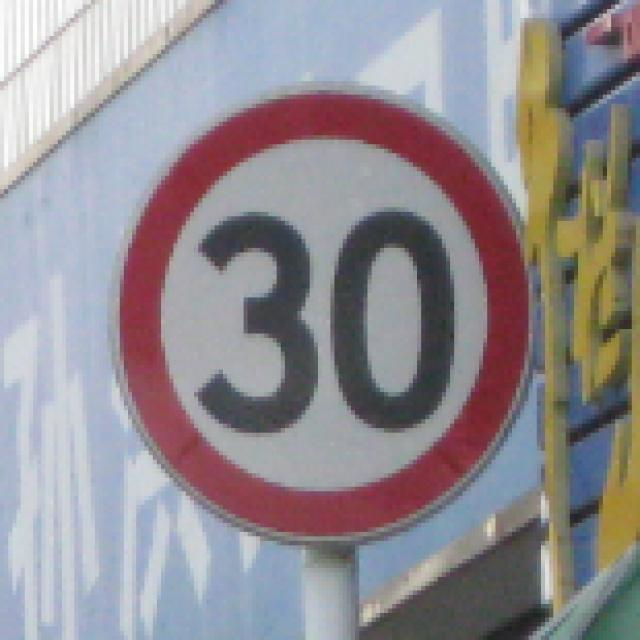Speed: (114, 72, 535, 549)
